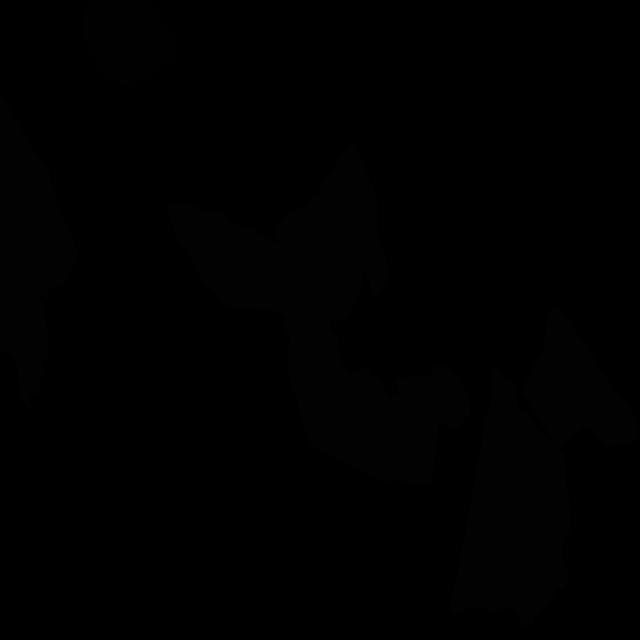cardboard: (274, 143, 471, 485), (450, 368, 571, 628), (0, 99, 79, 353), (521, 307, 640, 452), (168, 200, 306, 320), (13, 329, 51, 409)
rigid_plastic: (82, 0, 181, 90)
